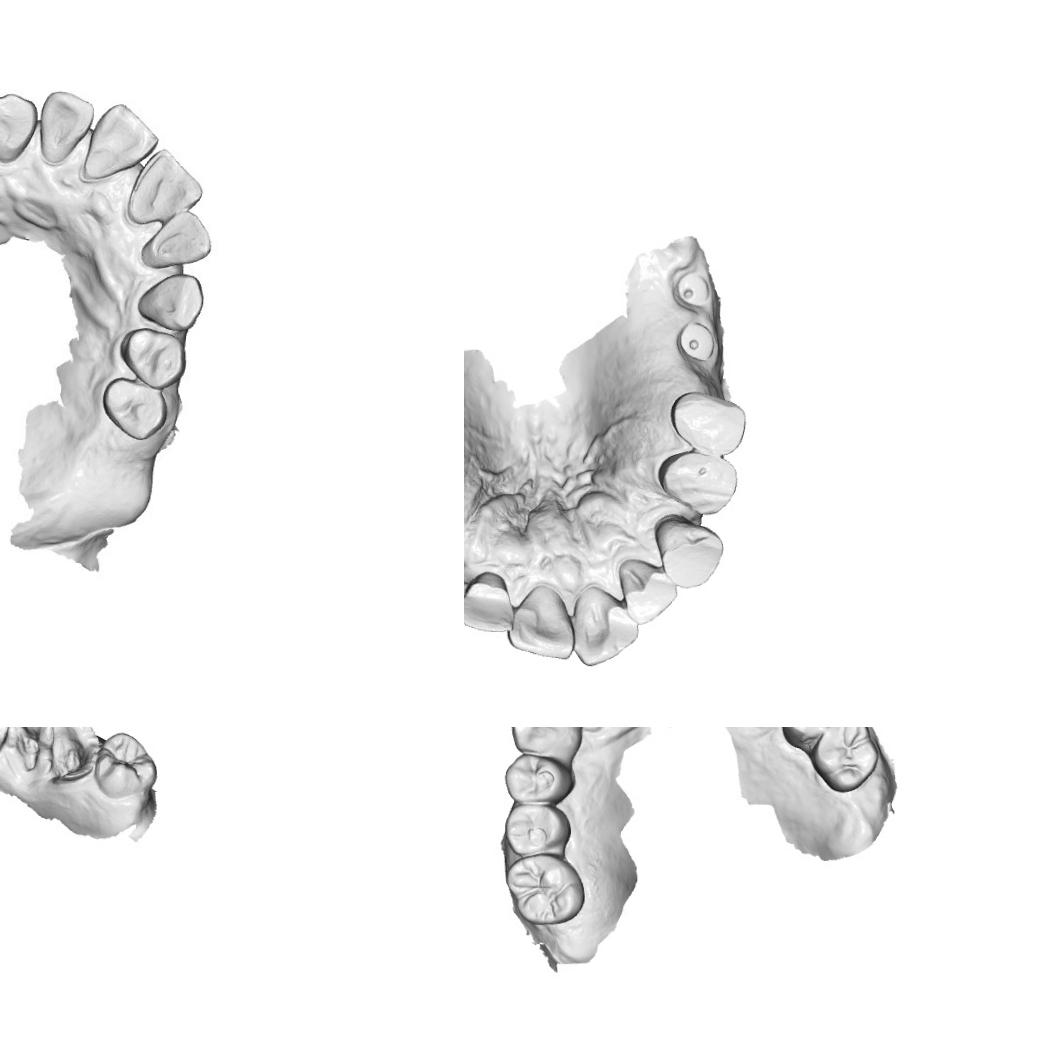canine: (652, 515, 725, 592), (136, 272, 208, 331), (0, 87, 41, 165), (508, 727, 584, 763)
implant: (676, 318, 716, 364), (670, 272, 712, 312)
incisor: (123, 148, 210, 227), (504, 582, 580, 662), (81, 101, 156, 180), (572, 589, 641, 669), (614, 555, 682, 628), (138, 207, 214, 272), (38, 86, 96, 168), (464, 569, 515, 634)
molar: (504, 852, 588, 926), (92, 729, 160, 801), (809, 727, 880, 795)
premolar: (654, 449, 742, 518), (669, 388, 748, 455), (98, 377, 166, 445), (120, 328, 187, 392), (504, 752, 576, 804), (504, 802, 572, 857), (779, 727, 841, 749)
